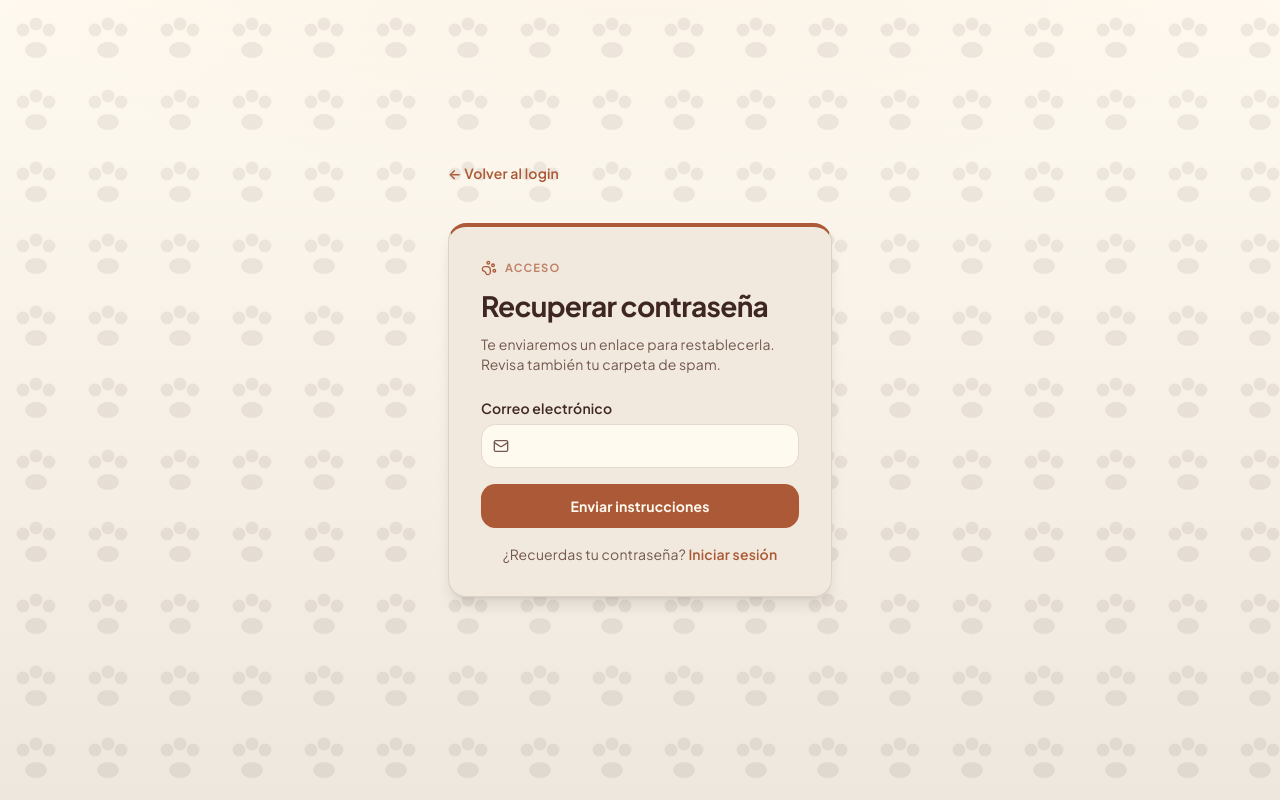
Test case: ForgotPasswordPage › muestra mensaje de éxito tras solicitar recuperación
Type "dueno@test.com" into the field labelled "Correo electrónico". click: (640, 446)
box: x1=481 y1=424 x2=799 y2=468
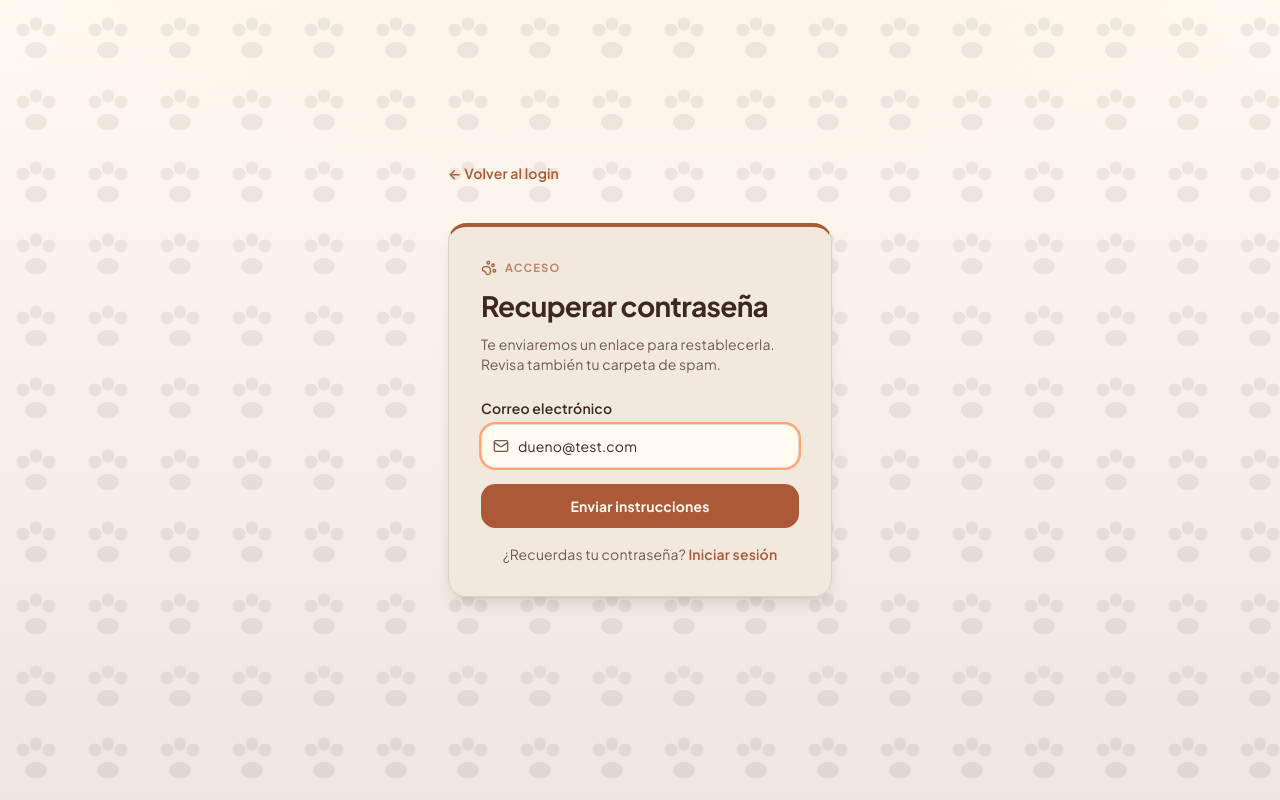
Click the button "Enviar instrucciones". click: (640, 506)
box: x1=481 y1=484 x2=799 y2=528
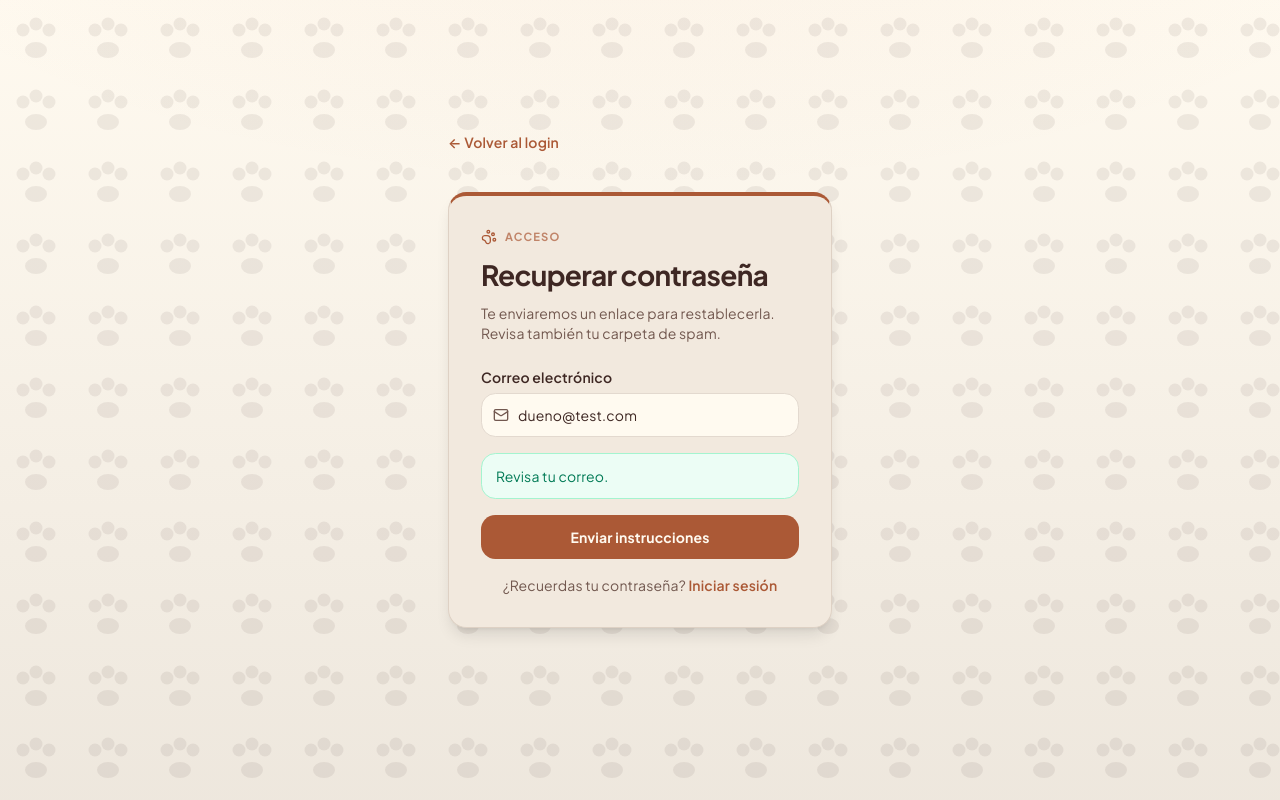
Result: the message reads "Revisa tu correo." at x1=496 y1=467 x2=608 y2=485
